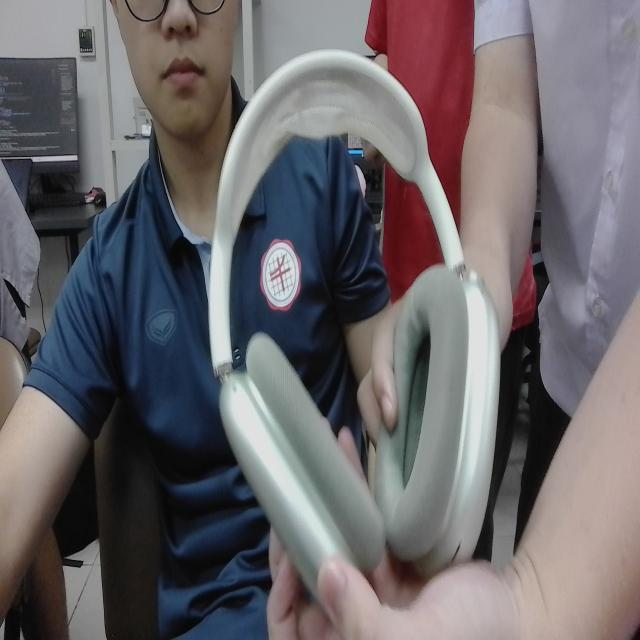airpods max: (198, 39, 510, 620)
